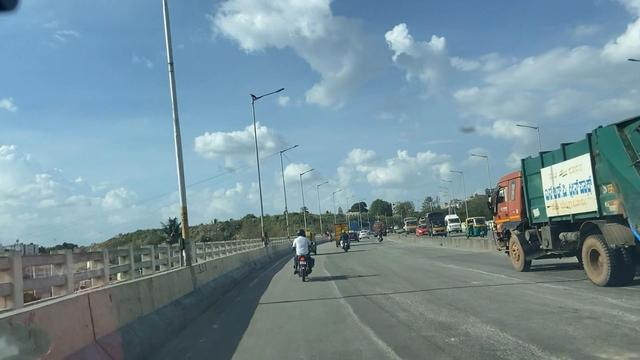HMV: (485, 115, 640, 279)
